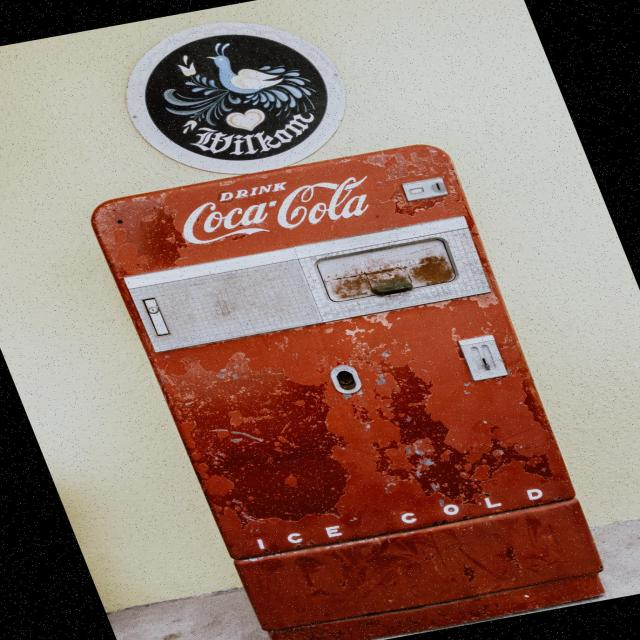coca-cola: (169, 170, 389, 249)
